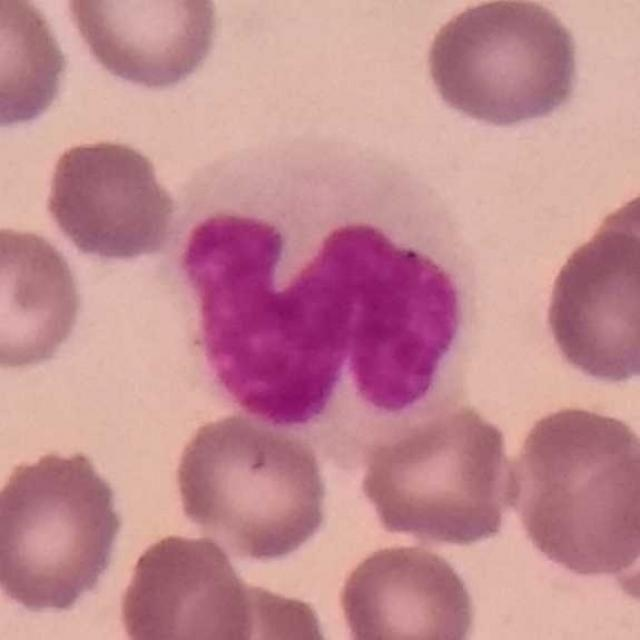mono: (142, 132, 487, 453)
